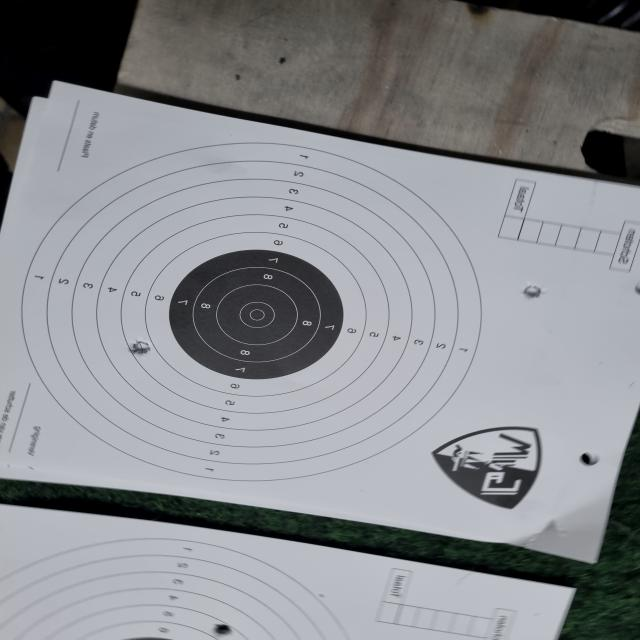0: (522, 286, 542, 300)
5: (130, 341, 151, 355)
Target: (20, 140, 484, 482)
black_contour: (168, 253, 350, 381)
